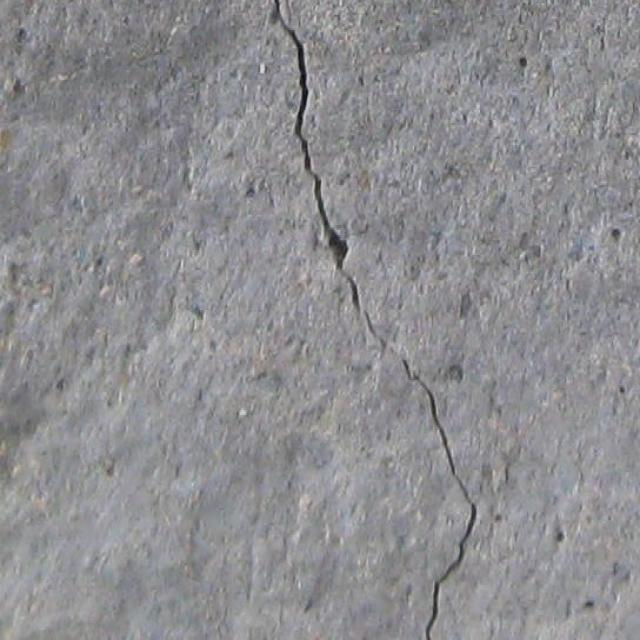Longitudinal: (250, 0, 481, 640)
